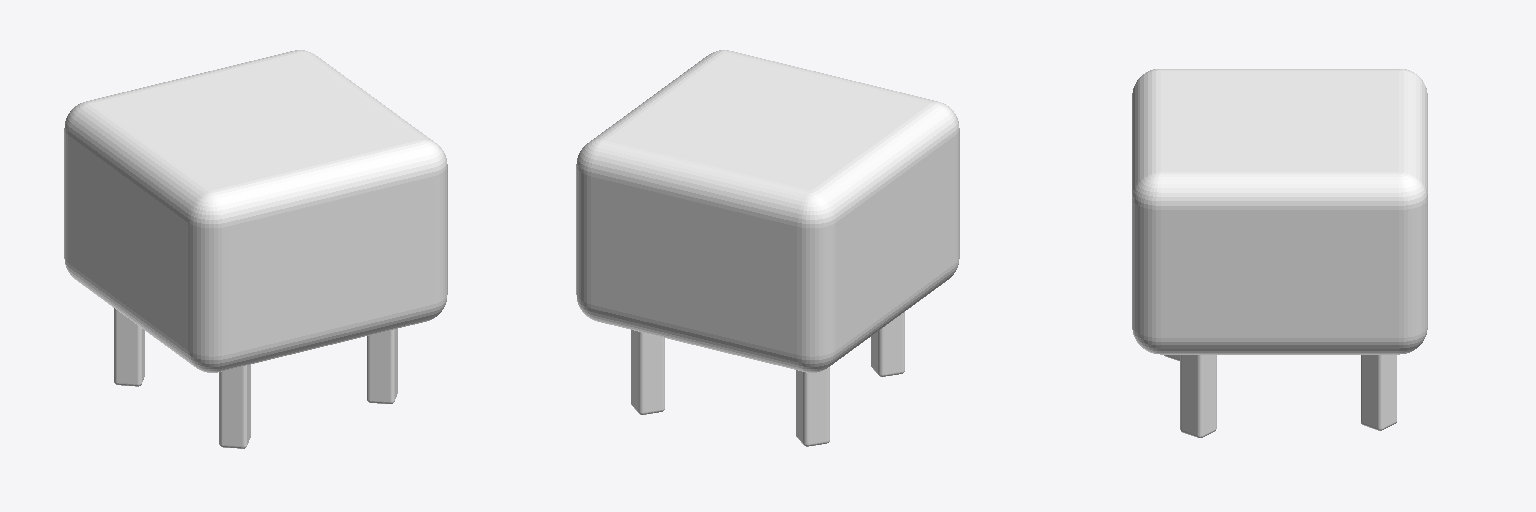
Rendered from 小凳子.obj.
3 views of the same model, side by side, from view 1: azimuth 30°, elevation 25°; view 2: azimuth 150°, elevation 25°; view 3: azimuth 270°, elevation 25° (orthographic).
Parts seen in each view (by area): view 1: 立方体.7, 立方体.8.2, 立方体.8.3, 立方体.8.1; view 2: 立方体.7, 立方体.8.4, 立方体.8.1, 立方体.8.2; view 3: 立方体.7, 立方体.8.3, 立方体.8.4.
Part boxes in pixels (x1,y1,x2,y2): 立方体.7: (64,50,447,372); 立方体.8.2: (219,365,250,448); 立方体.8.3: (367,329,397,403); 立方体.8.1: (114,308,144,386); 立方体.7: (576,50,959,372); 立方体.8.4: (631,330,664,414); 立方体.8.1: (796,367,829,446); 立方体.8.2: (871,312,904,376); 立方体.7: (1132,69,1427,354); 立方体.8.3: (1180,355,1216,437); 立方体.8.4: (1361,355,1396,430).
Size of the model in its own units: 175 by 176 by 175.